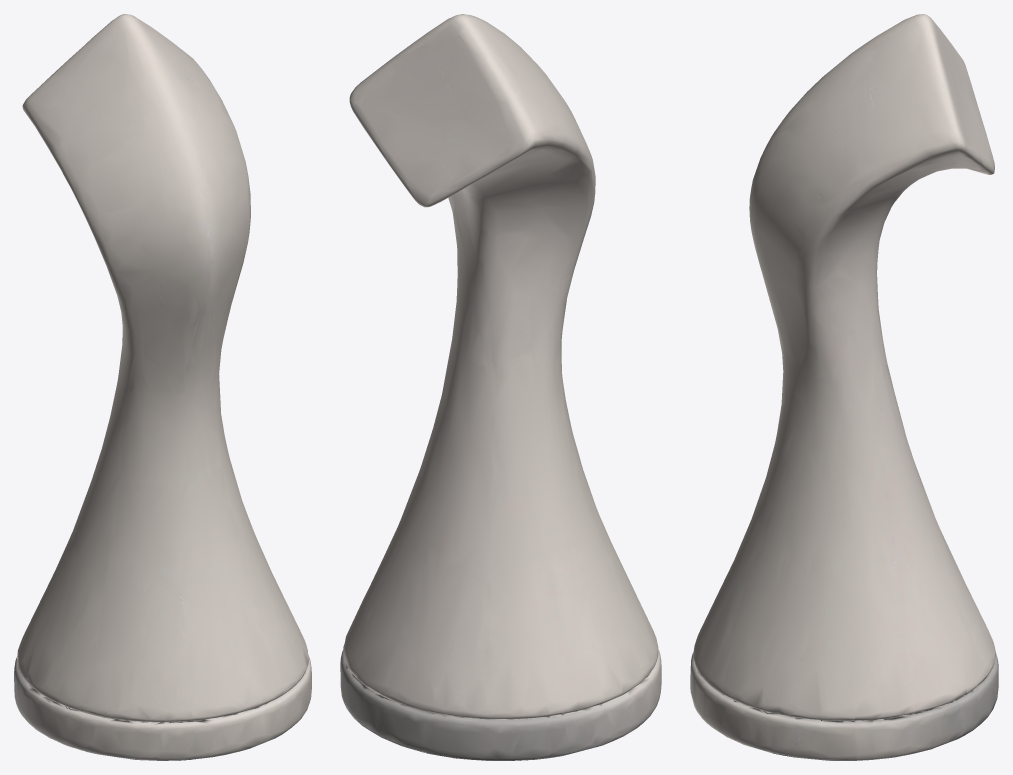
Rendered from knight-white.glb.
The picture shows the model from 3 angles, left to right: view 1: azimuth 30°, elevation 25°; view 2: azimuth 150°, elevation 25°; view 3: azimuth 270°, elevation 25°; orthographic projection. The views are drawn at different scales.
Bounding box in the file's own units: 0.4925 × 1.2 × 0.4913.
Materials: 1 (1 with a texture image).
